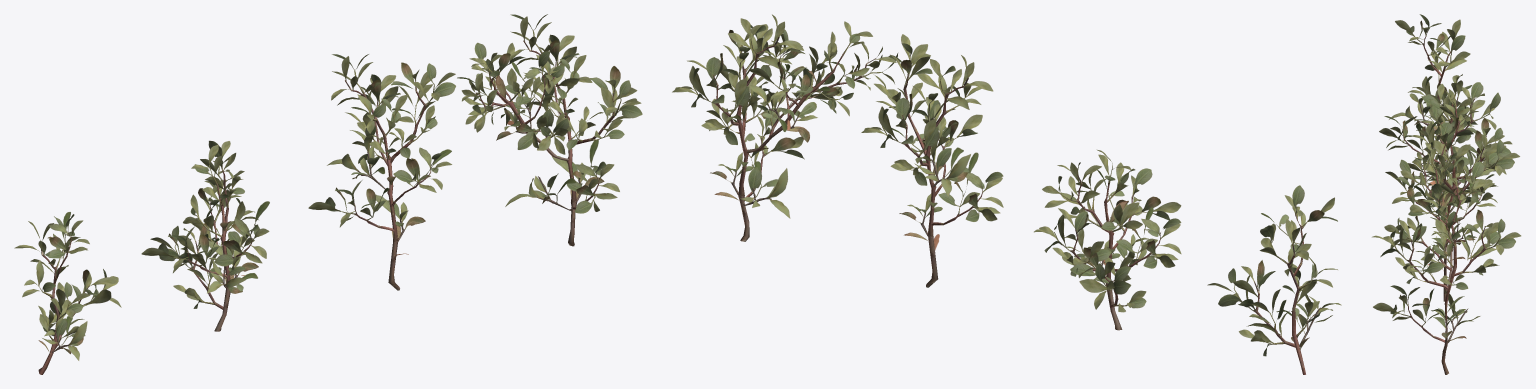
Rendered from shrub_04.glb.
3 renders of one model, left to right at view 1: azimuth 30°, elevation 25°; view 2: azimuth 150°, elevation 25°; view 3: azimuth 270°, elevation 25°, orthographic. The views are drawn at different scales.
Visible parts, largest first — view 1: shrub_04; view 2: shrub_04; view 3: shrub_04.
Part boxes in pixels (bbox=[...]): shrub_04: bbox=[14, 14, 642, 374]; shrub_04: bbox=[672, 14, 1341, 374]; shrub_04: bbox=[1372, 14, 1521, 374].
Bounding box in the file's own units: 0.5837 × 0.2192 × 0.146.
Materials: 1 (1 with a texture image).
